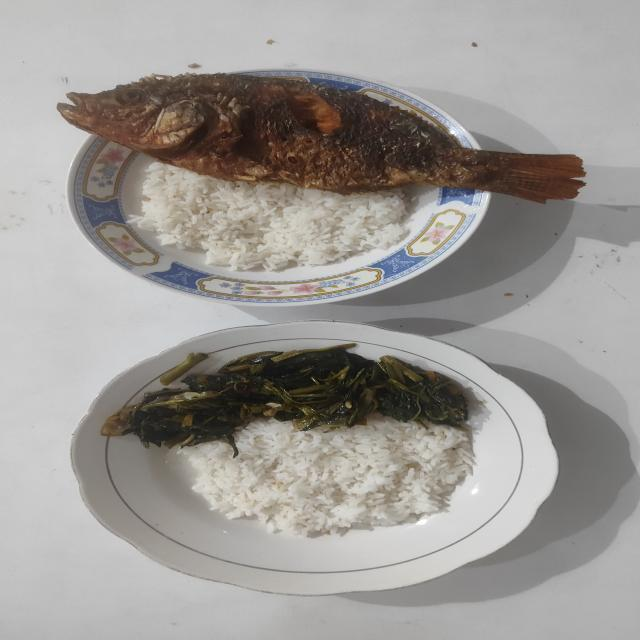ikan_mujair: (57, 74, 585, 204)
nasi_putih: (178, 412, 474, 538), (130, 162, 411, 272)
tumis_kangkung: (101, 343, 468, 457)
